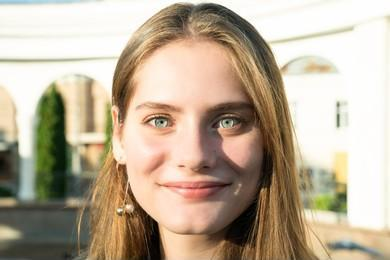face: (128, 73, 264, 238)
